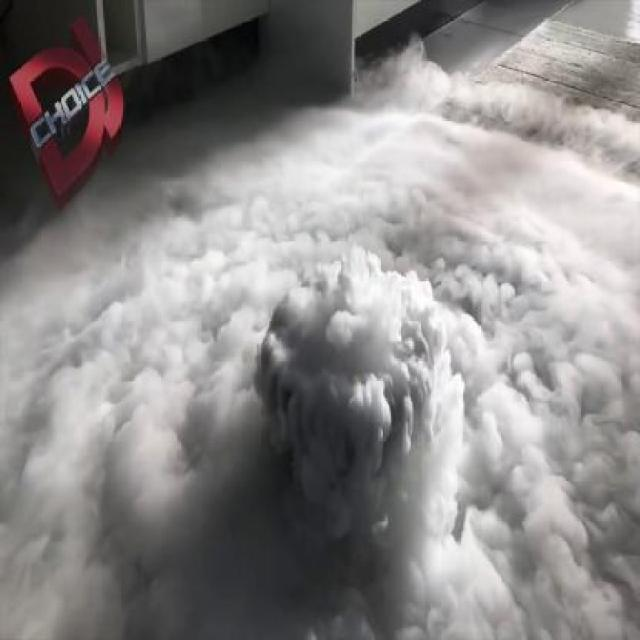smoke: (238, 75, 640, 636), (12, 155, 474, 640)
